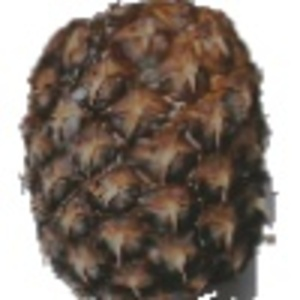abacaxi: (17, 4, 271, 294)
